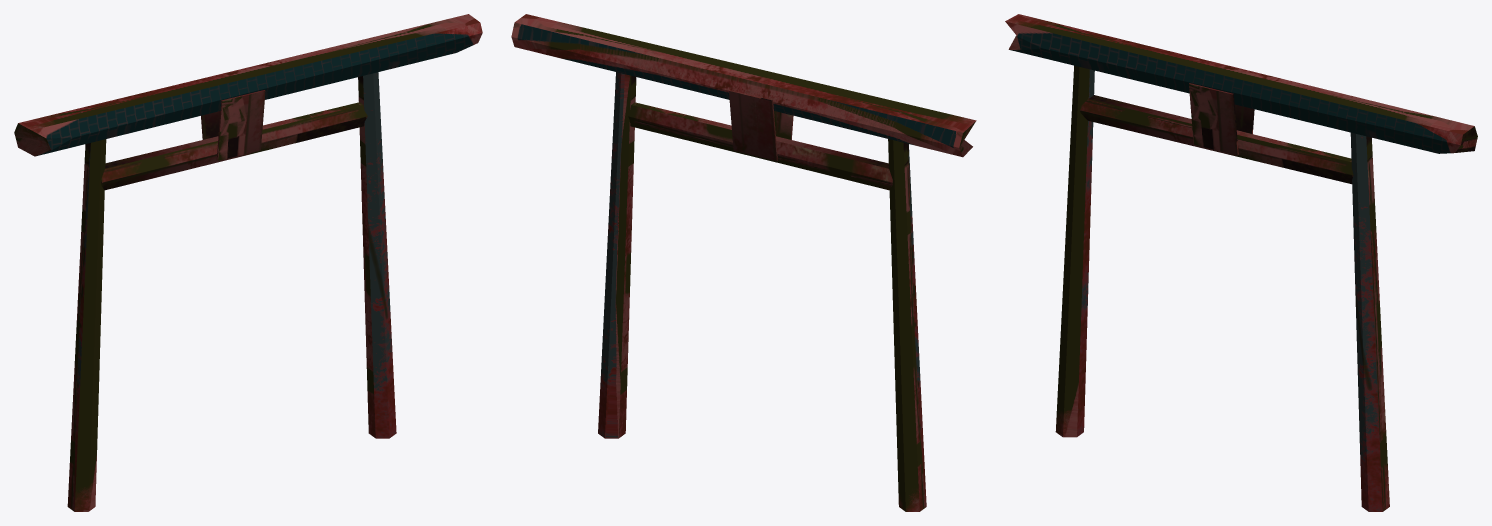
Rendered from Torii simples.fbx.
The picture shows the model from 3 angles, left to right: view 1: azimuth 30°, elevation 25°; view 2: azimuth 150°, elevation 25°; view 3: azimuth 330°, elevation 25°; orthographic projection.
Visible parts, largest first — view 1: Torii simplificado_LOD0; view 2: Torii simplificado_LOD0; view 3: Torii simplificado_LOD0.
Part boxes in pixels (left/top/right/bottom): Torii simplificado_LOD0: left=14, top=14, right=482, bottom=511; Torii simplificado_LOD0: left=511, top=14, right=976, bottom=511; Torii simplificado_LOD0: left=1005, top=14, right=1477, bottom=511.
Size of what is drawn, in the model's own units: 459 by 386 by 41.74.
